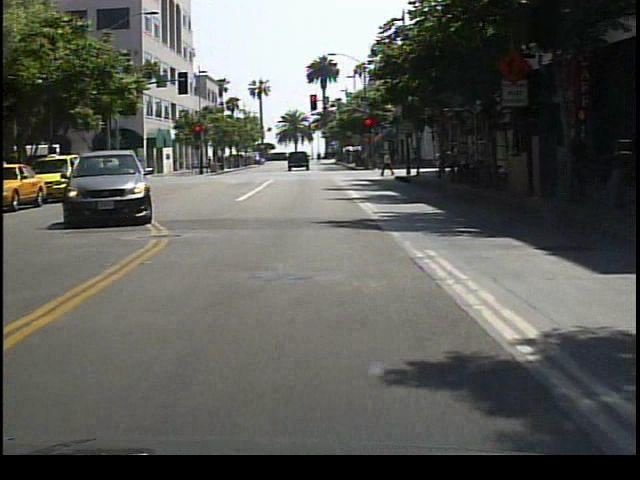person: (411, 143, 426, 174), (381, 150, 396, 177)
